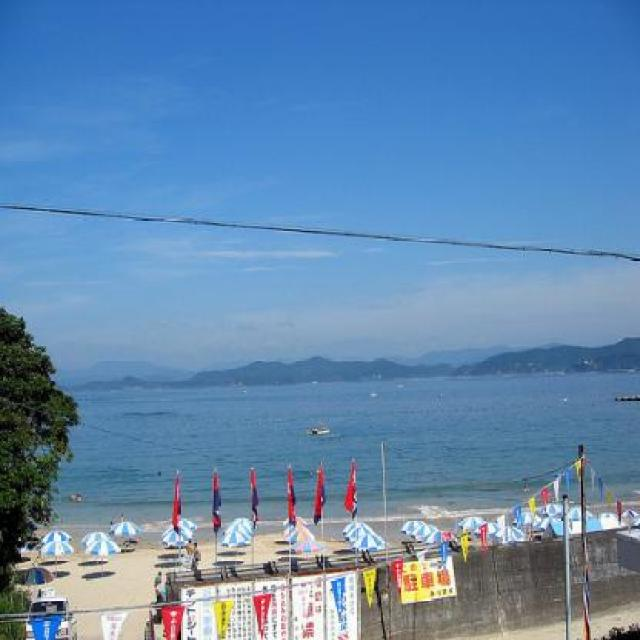ship: (302, 418, 328, 434)
